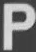Parking: (0, 1, 34, 49)
